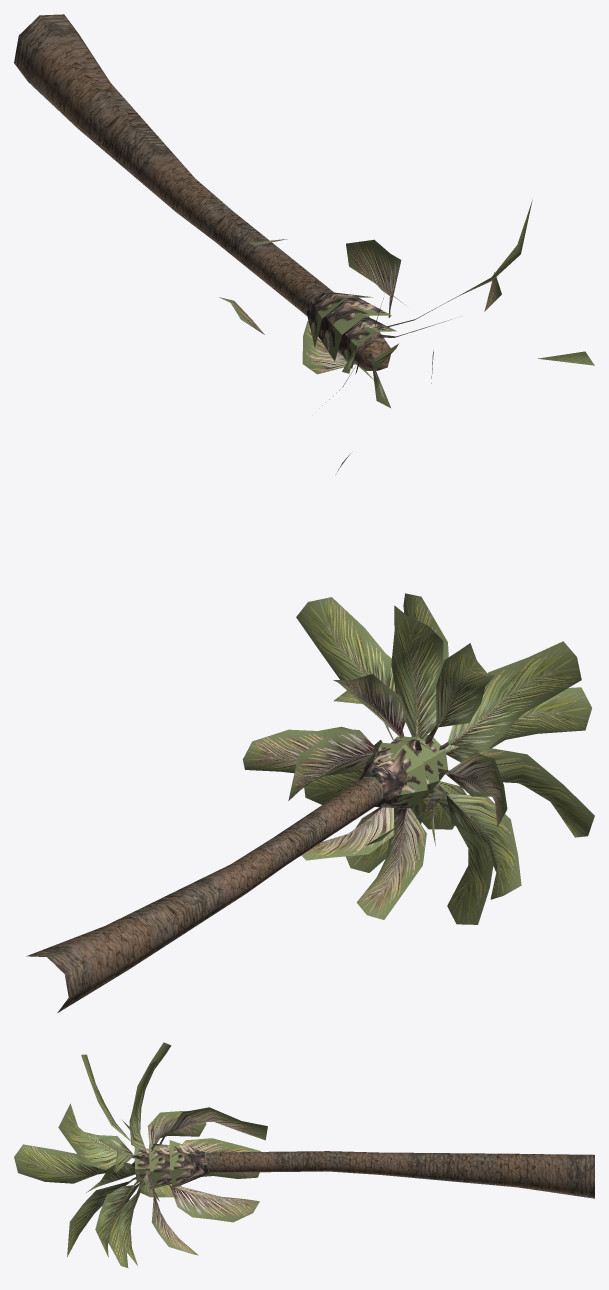
Rendered from tree_desertpalm02.glb.
3 views of the same model, one above another, from view 1: azimuth 30°, elevation 25°; view 2: azimuth 150°, elevation 25°; view 3: azimuth 270°, elevation 25° (orthographic). The views are drawn at different scales.
Size of the model in its own units: 160 by 169 by 407.
2 materials, 2 textured.
